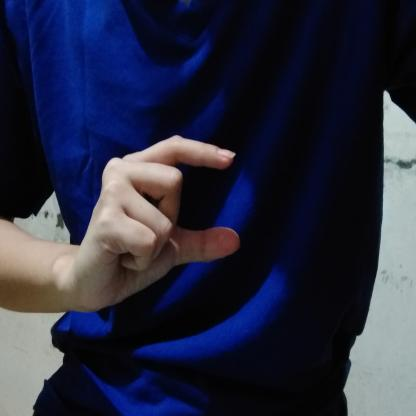small: (61, 126, 246, 320)
